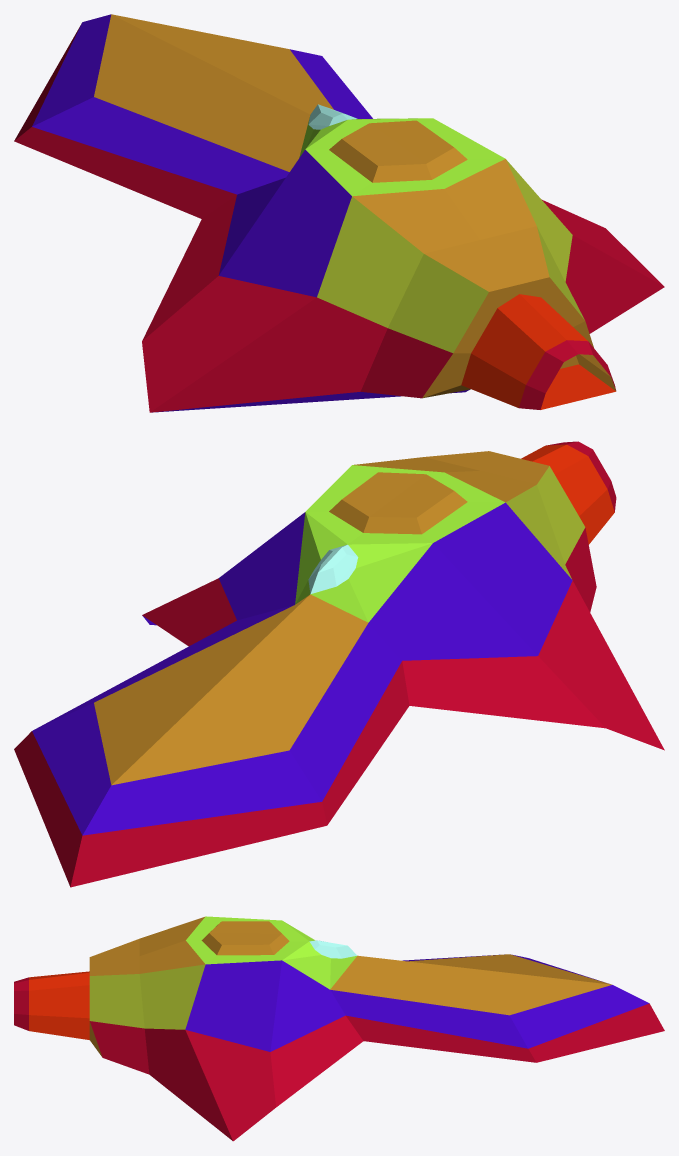
Rendered from Gunship2.fbx.
3 renders of one model, top to bottom at view 1: azimuth 30°, elevation 25°; view 2: azimuth 150°, elevation 25°; view 3: azimuth 270°, elevation 25°, orthographic. The views are drawn at different scales.
Parts seen in each view (by area): view 1: Gunship; view 2: Gunship; view 3: Gunship.
Part boxes in pixels (x1,y1,x2,y2): Gunship: (14, 14, 664, 412); Gunship: (14, 441, 664, 887); Gunship: (14, 916, 664, 1141).
Bounding box in the file's own units: 643 × 1099 × 238.
